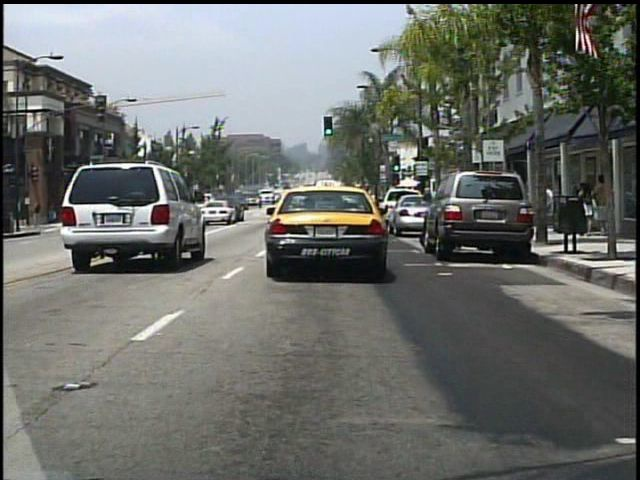person: (594, 172, 615, 234), (580, 178, 598, 236)
